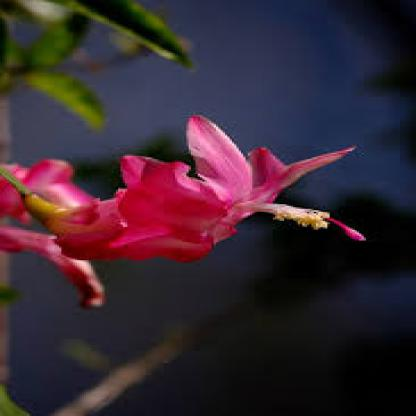Aglonema: (24, 33, 388, 395)
